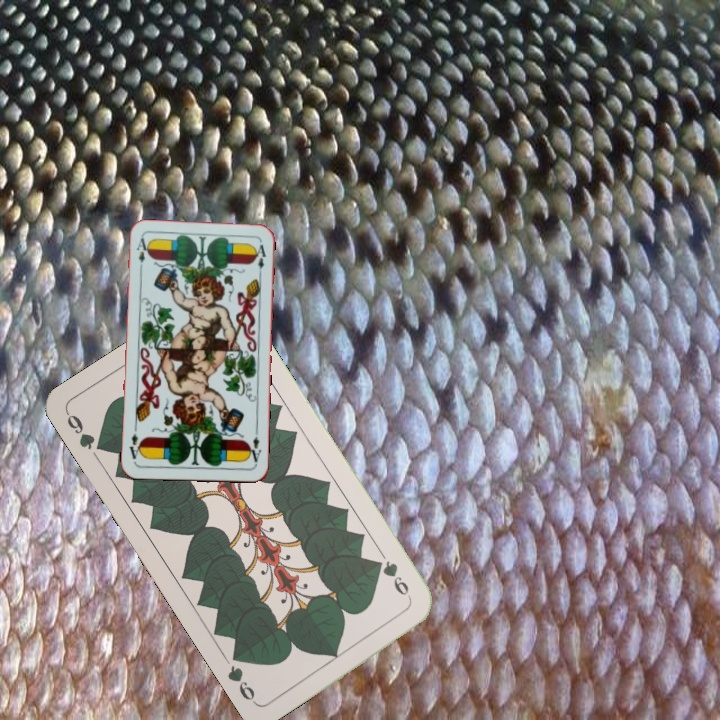EA: (244, 426, 264, 466), (132, 234, 150, 274)
G9: (62, 409, 109, 455), (371, 556, 415, 604)
